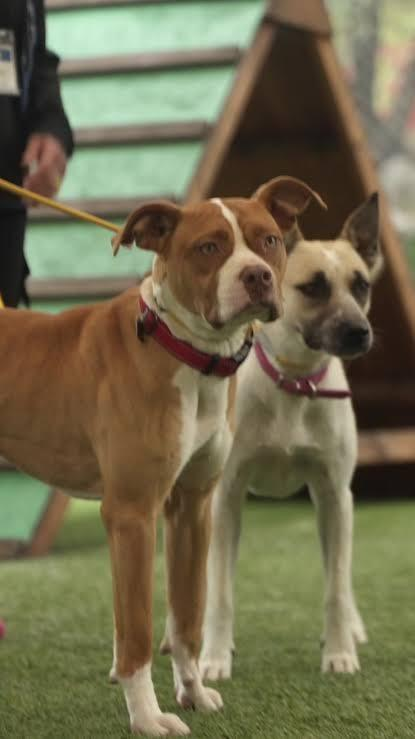adult_dog: (1, 168, 329, 731), (199, 190, 386, 687)
non-dog: (0, 0, 83, 311)
